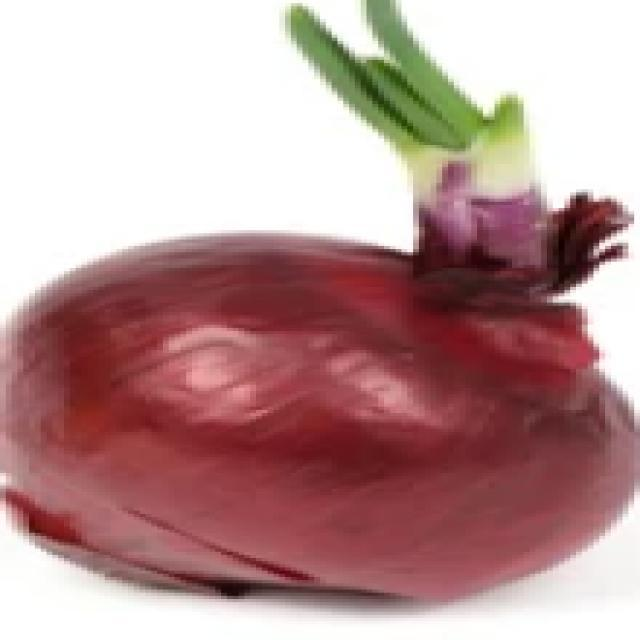sprouting: (256, 51, 588, 256)
